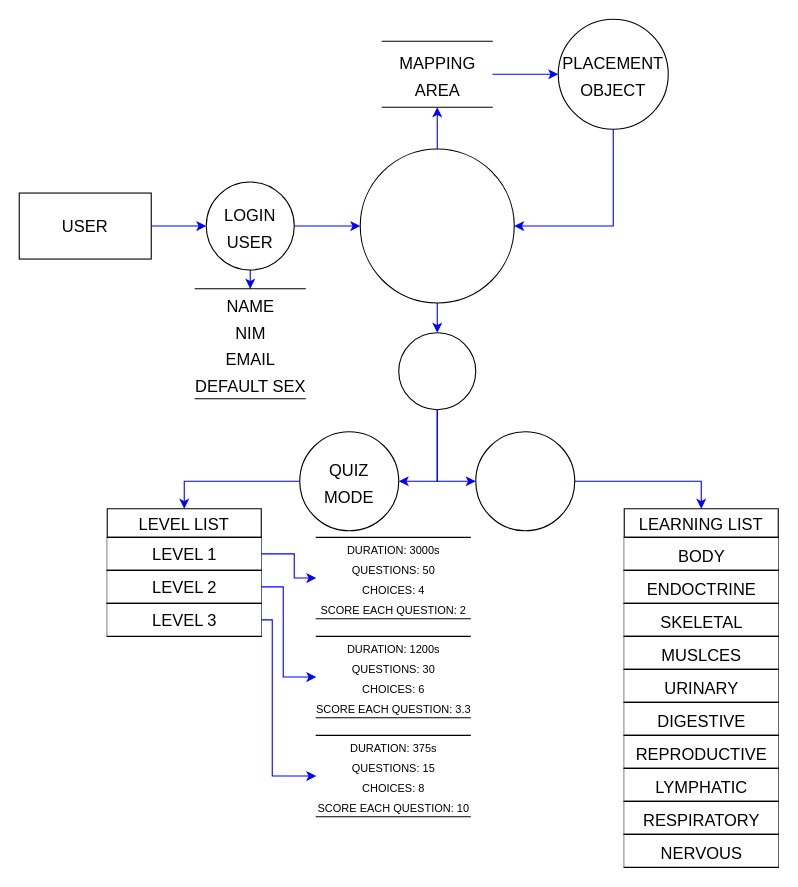
Some shapes in this 798 by 887 pixel diagram are drawn without their labels. The centre of each missing label's shape, as x and y in pixels:
"AR HUMAN ANATOMY" belongs at [436,225].
"LEARNING MODE" belongs at [525,481].
"SELECT MODE" belongs at [437,371].
